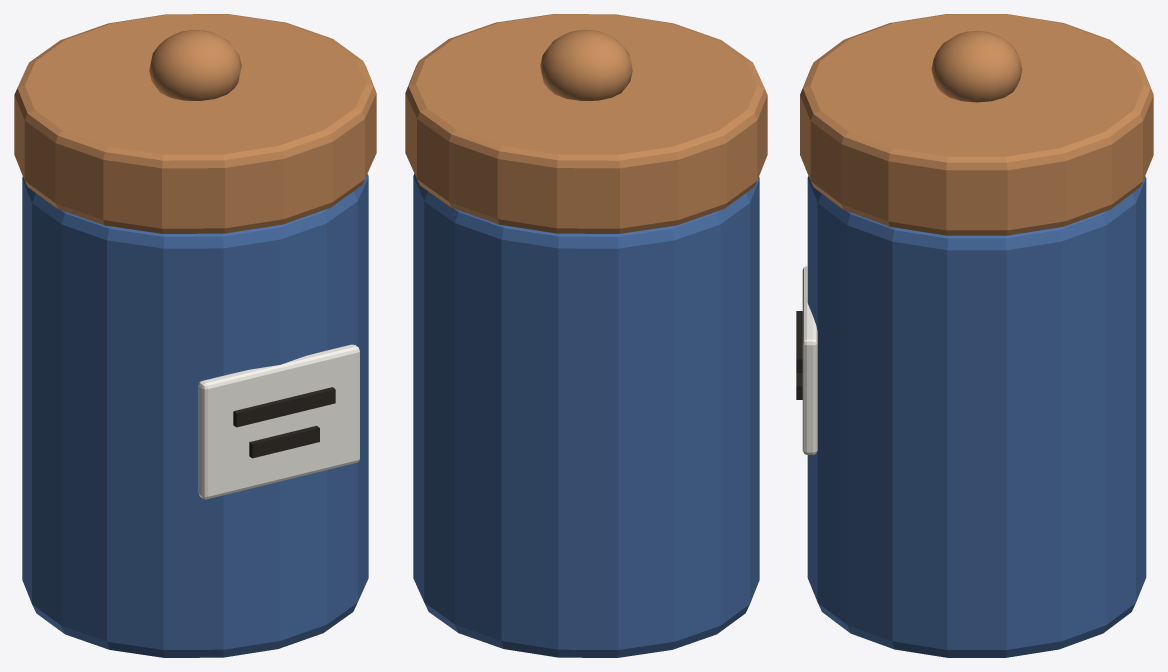
File: hh_cat_storage_jar.glb
The picture shows the model from 3 angles, left to right: view 1: azimuth 30°, elevation 25°; view 2: azimuth 150°, elevation 25°; view 3: azimuth 270°, elevation 25°; orthographic projection.
Visible parts, largest first — view 1: body, lid, label, knob, label.001, label.002; view 2: body, lid, knob; view 3: body, lid, knob, label.
Boxes of the visible parts, x1,y1,x2,y2 form: body: (22, 174, 368, 657); lid: (14, 14, 376, 233); label: (198, 344, 359, 499); knob: (149, 30, 241, 100); label.001: (233, 387, 335, 427); label.002: (249, 425, 319, 458); body: (413, 174, 759, 657); lid: (405, 14, 767, 233); knob: (540, 30, 632, 100); body: (807, 176, 1146, 657); lid: (800, 14, 1153, 235); knob: (931, 31, 1022, 102); label: (802, 266, 817, 454).
Size of the model in its own units: 0.14 by 0.24 by 0.14.
